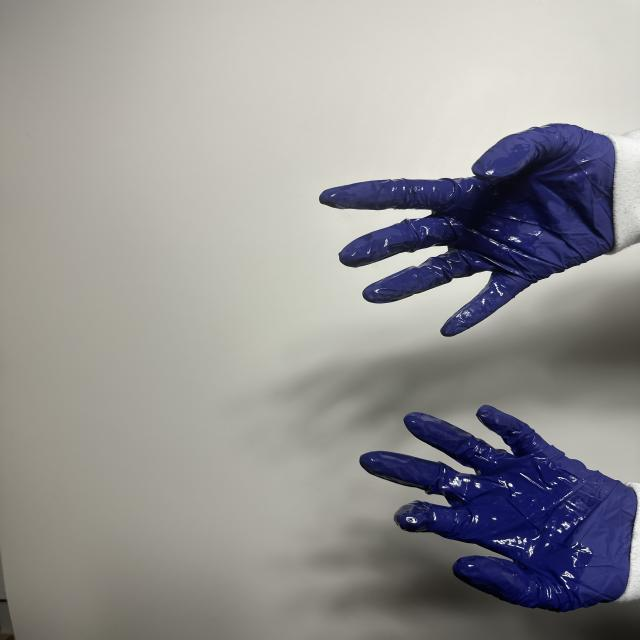gloves_contaminated: (320, 124, 616, 336), (360, 406, 636, 611)
